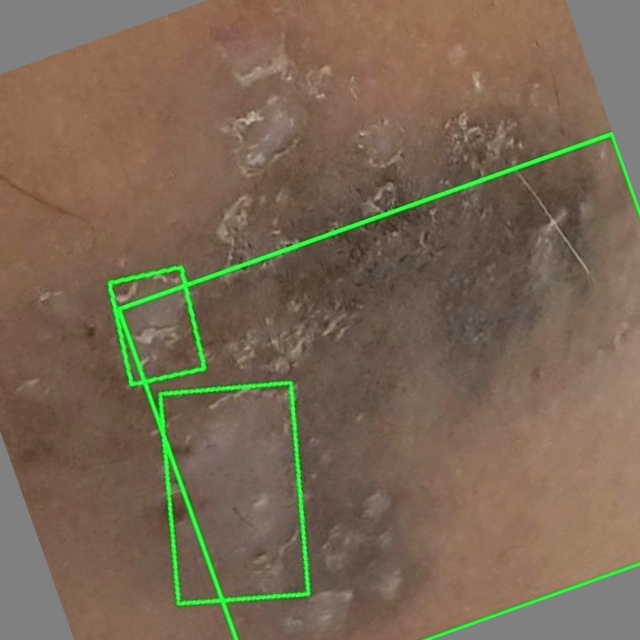Contact Dermatitis: (118, 133, 639, 639), (160, 383, 308, 604), (108, 268, 203, 385)
